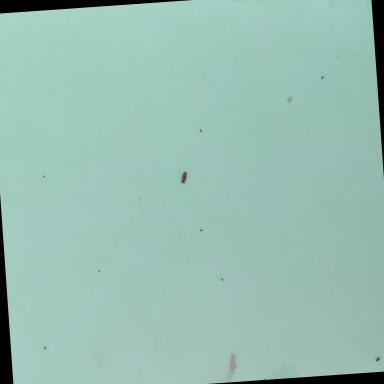pbw: (178, 170, 188, 184)
